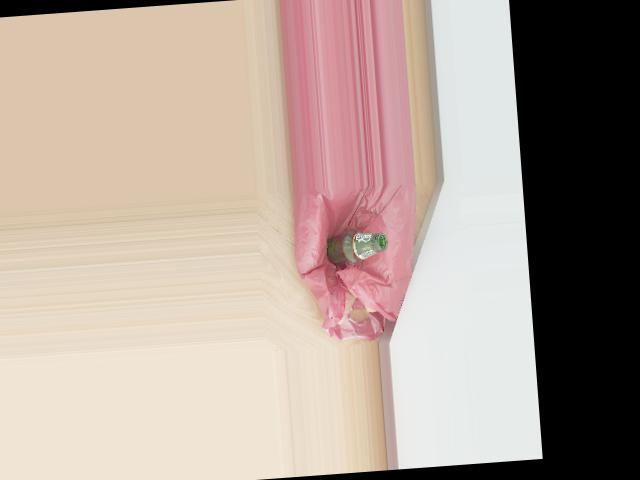beer: (324, 226, 388, 267)
